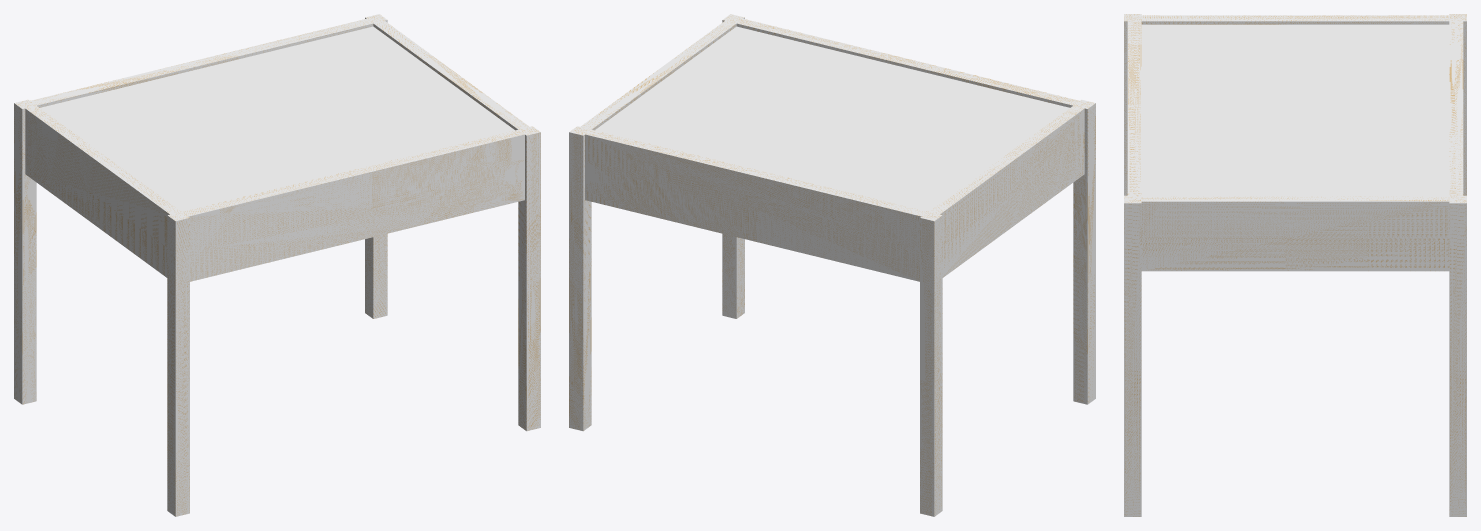
File: table.dae
3 renders of one model, left to right at view 1: azimuth 30°, elevation 25°; view 2: azimuth 150°, elevation 25°; view 3: azimuth 270°, elevation 25°, orthographic. The views are drawn at different scales.
Visible parts, largest first — view 1: SketchUp (×2); view 2: SketchUp (×2); view 3: SketchUp (×2).
Boxes of the visible parts, x1=… form: SketchUp (×2): x1=14, y1=14, x2=540, y2=516; SketchUp (×2): x1=569, y1=14, x2=1095, y2=516; SketchUp (×2): x1=1124, y1=14, x2=1466, y2=516.
Bounding box in the file's own units: 25.2 × 19.29 × 19.49.
Materials: 3 (2 with a texture image).
